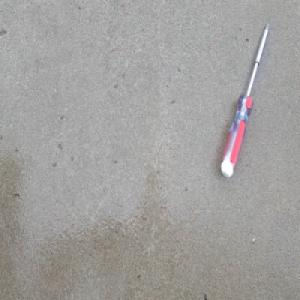Screwdriver: (219, 19, 270, 181)
